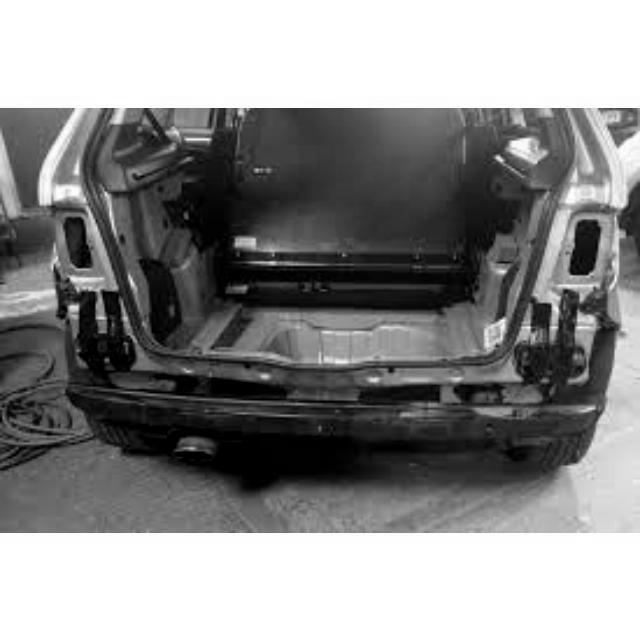boot-dent: (59, 107, 619, 393)
